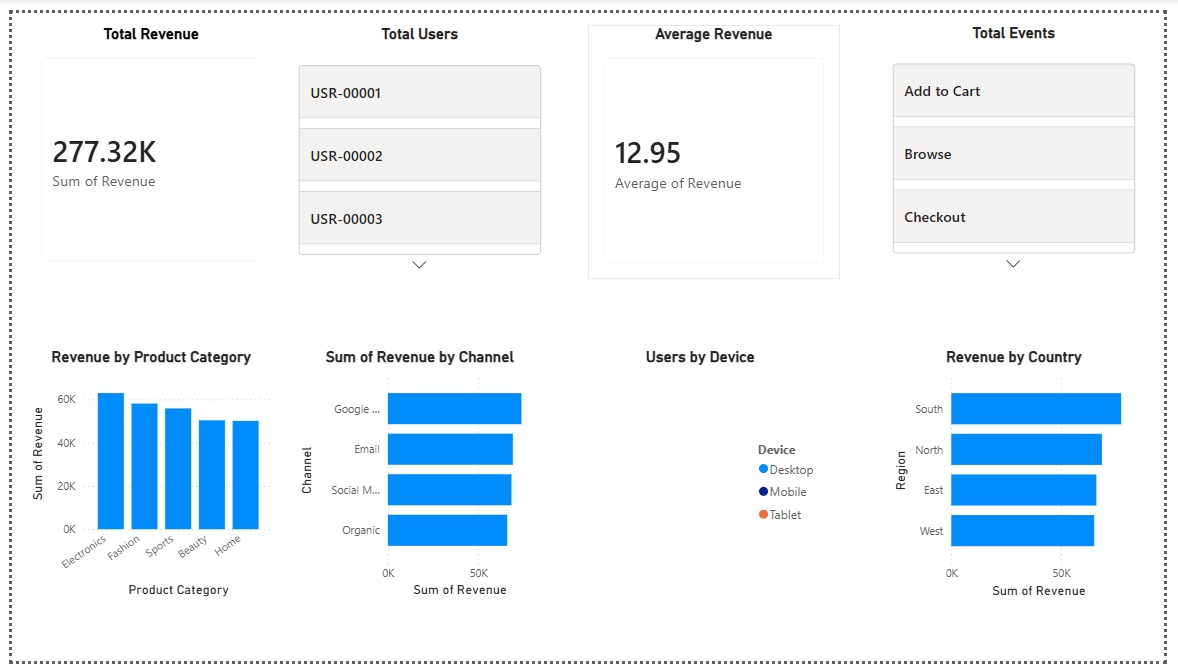

What the dashboard file says about the page in this screenshot:
{"tool":"powerbi","page":{"name":"Page 1","canvas":[1280,720],"ordinal":0},"visuals":[{"type":"cardVisual","title":"Total Revenue","fields":{"Data":["Sum(client_site_dataset.Revenue)","Sum(client_site_dataset.Revenue)"]},"box":[15.1,13.2,279.7,279.7],"z":0},{"type":"cardVisual","title":"Total Users","fields":{"Rows":["client_site_dataset.User ID"]},"box":[313.7,13.2,279.7,281.6],"z":1000},{"type":"cardVisual","title":"Average Revenue","fields":{"Data":["Avg(client_site_dataset.Revenue)"]},"box":[640.6,13.2,279.7,281.6],"z":2000},{"type":"cardVisual","title":"Total Events","fields":{"Rows":["client_site_dataset.Event"]},"box":[973.2,11.3,279.7,281.6],"z":2001},{"type":"clusteredColumnChart","title":"Revenue by Product Category","fields":{"Category":["client_site_dataset.Product Category"],"Y":["Sum(client_site_dataset.Revenue)"]},"box":[15.1,372.3,279.7,281.6],"z":2002},{"type":"clusteredBarChart","fields":{"Category":["client_site_dataset.Channel"],"Y":["Sum(client_site_dataset.Revenue)"]},"box":[313.7,372.3,279.7,281.6],"z":2003},{"type":"donutChart","title":"Users by Device","fields":{"Category":["client_site_dataset.Device"],"Series":["client_site_dataset.User ID"]},"box":[625.5,372.3,279.7,281.6],"z":2004},{"type":"clusteredBarChart","title":"Revenue by Country","fields":{"Category":["client_site_dataset.Region"],"Y":["Sum(client_site_dataset.Revenue)"]},"box":[973,372,280,282],"z":2005}]}

Visuals, with their boxes in screenshot pixels (x1, y1, x2, y2), scaled from the page's 1280x720 canvas onto the 1178x667 screenshot:
"Total Revenue" cardVisual: 14/12/271/271
"Total Users" cardVisual: 289/12/546/273
"Average Revenue" cardVisual: 590/12/847/273
"Total Events" cardVisual: 896/10/1153/271
"Revenue by Product Category" clusteredColumnChart: 14/345/271/606
clusteredBarChart - client_site_dataset.Channel x Sum(client_site_dataset.Revenue): 289/345/546/606
"Users by Device" donutChart: 576/345/833/606
"Revenue by Country" clusteredBarChart: 895/345/1153/606
